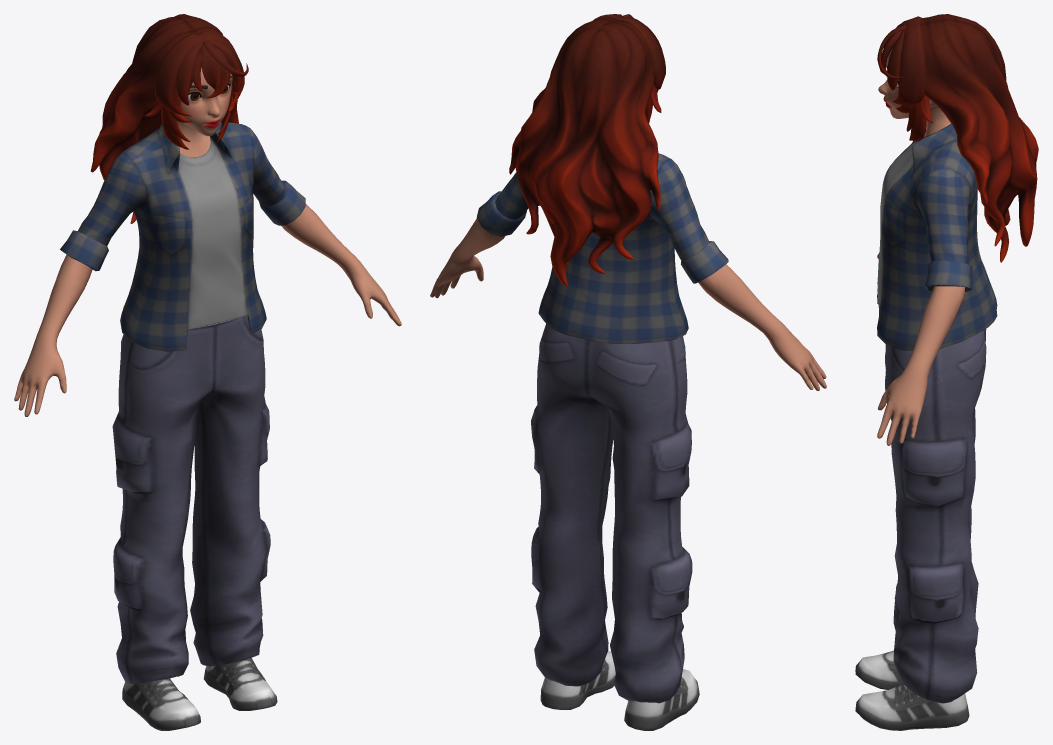
File: Misszy_Mesh.obj
3 views of the same model, side by side, from view 1: azimuth 30°, elevation 25°; view 2: azimuth 150°, elevation 25°; view 3: azimuth 270°, elevation 25° (orthographic). The views are drawn at different scales.
Visible parts, largest first — view 1: Misszy_Mesh_0; view 2: Misszy_Mesh_0; view 3: Misszy_Mesh_0.
Boxes of the visible parts, x1,y1,x2,y2 form: Misszy_Mesh_0: (14,14,401,730); Misszy_Mesh_0: (430,14,826,730); Misszy_Mesh_0: (855,14,1038,730).
Bounding box in the file's own units: 1.06 × 1.81 × 0.4395.
Materials: 1 (1 with a texture image).
